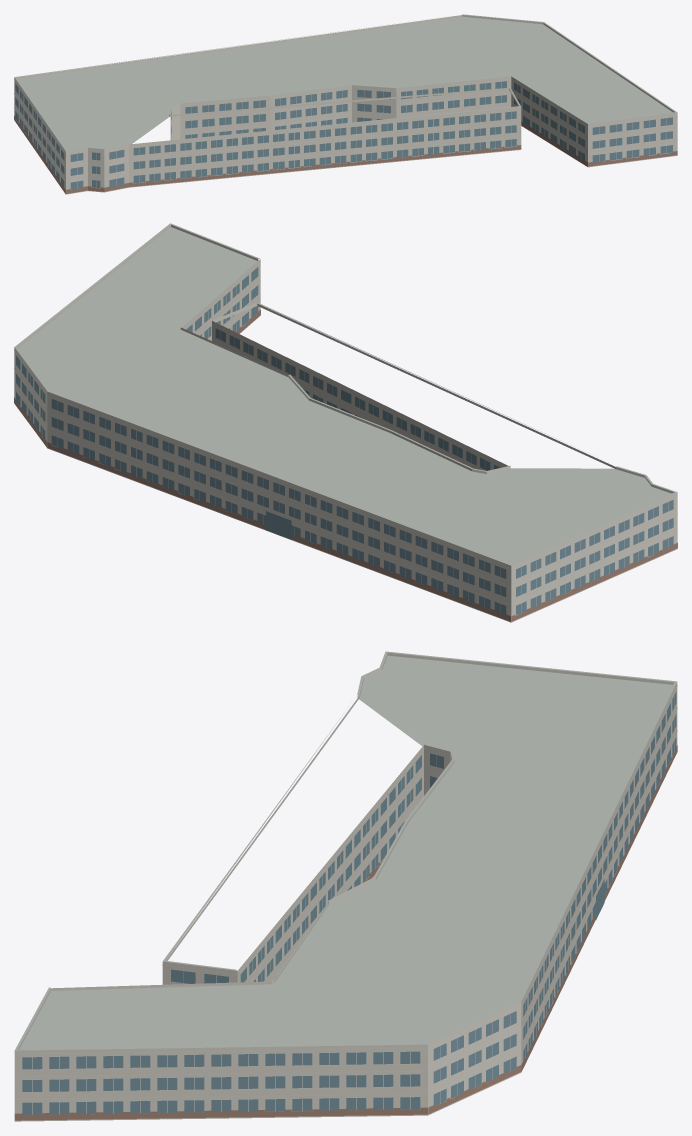
The model's file is public-8626ca83-a801-4d95-8a1e-1e6bd0469e2b.glb.
3 renders of one model, top to bottom at view 1: azimuth 30°, elevation 25°; view 2: azimuth 150°, elevation 25°; view 3: azimuth 270°, elevation 25°, orthographic. The views are drawn at different scales.
Visible parts, largest first — view 1: public-8626ca83-a801-4d95-8a1e-1e6bd0469e2b; view 2: public-8626ca83-a801-4d95-8a1e-1e6bd0469e2b; view 3: public-8626ca83-a801-4d95-8a1e-1e6bd0469e2b.
Part boxes in pixels (x1,y1,x2,y2): public-8626ca83-a801-4d95-8a1e-1e6bd0469e2b: (14, 14, 677, 194); public-8626ca83-a801-4d95-8a1e-1e6bd0469e2b: (14, 223, 677, 622); public-8626ca83-a801-4d95-8a1e-1e6bd0469e2b: (14, 651, 677, 1121).
Size of the model in its own units: 110 by 9.15 by 77.53.
